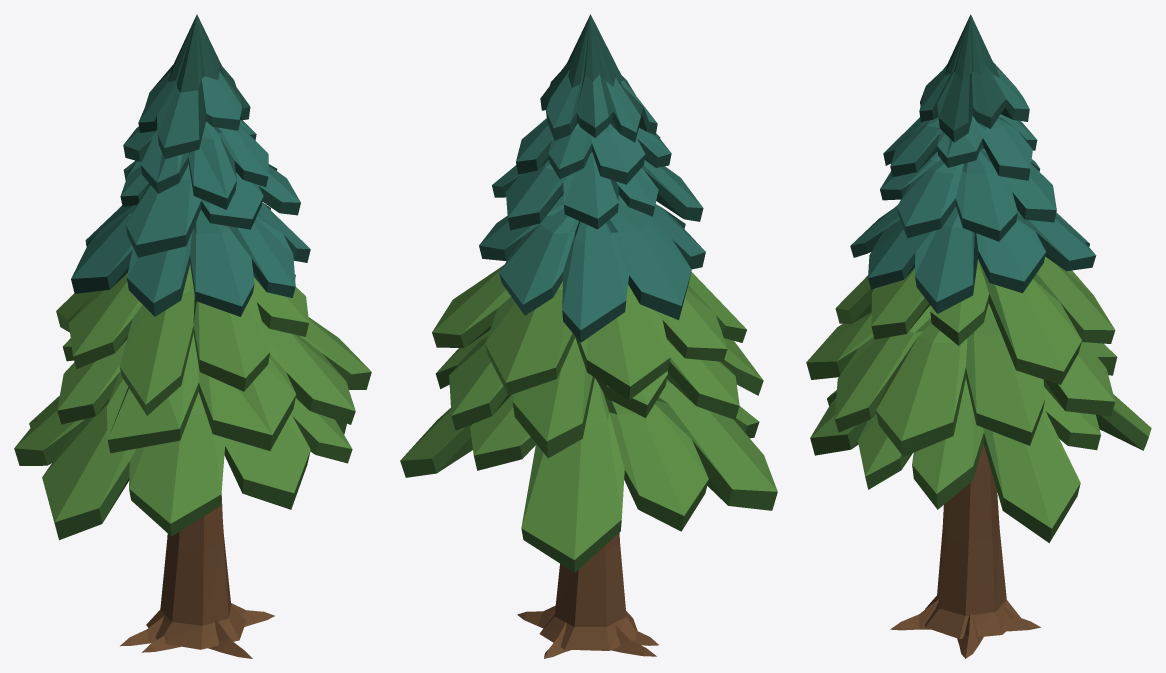
File: mdvl_nature_pine_01.glb
3 renders of one model, left to right at view 1: azimuth 30°, elevation 25°; view 2: azimuth 150°, elevation 25°; view 3: azimuth 270°, elevation 25°, orthographic. The views are drawn at different scales.
Parts seen in each view (by area): view 1: mdvl_nature_pine_01; view 2: mdvl_nature_pine_01; view 3: mdvl_nature_pine_01.
Boxes of the visible parts, x1,y1,x2,y2 form: mdvl_nature_pine_01: [14, 14, 371, 658]; mdvl_nature_pine_01: [400, 14, 777, 658]; mdvl_nature_pine_01: [806, 14, 1151, 658].
Bounding box in the file's own units: 3.73 × 7.05 × 3.63.
Materials: 1 (1 with a texture image).
